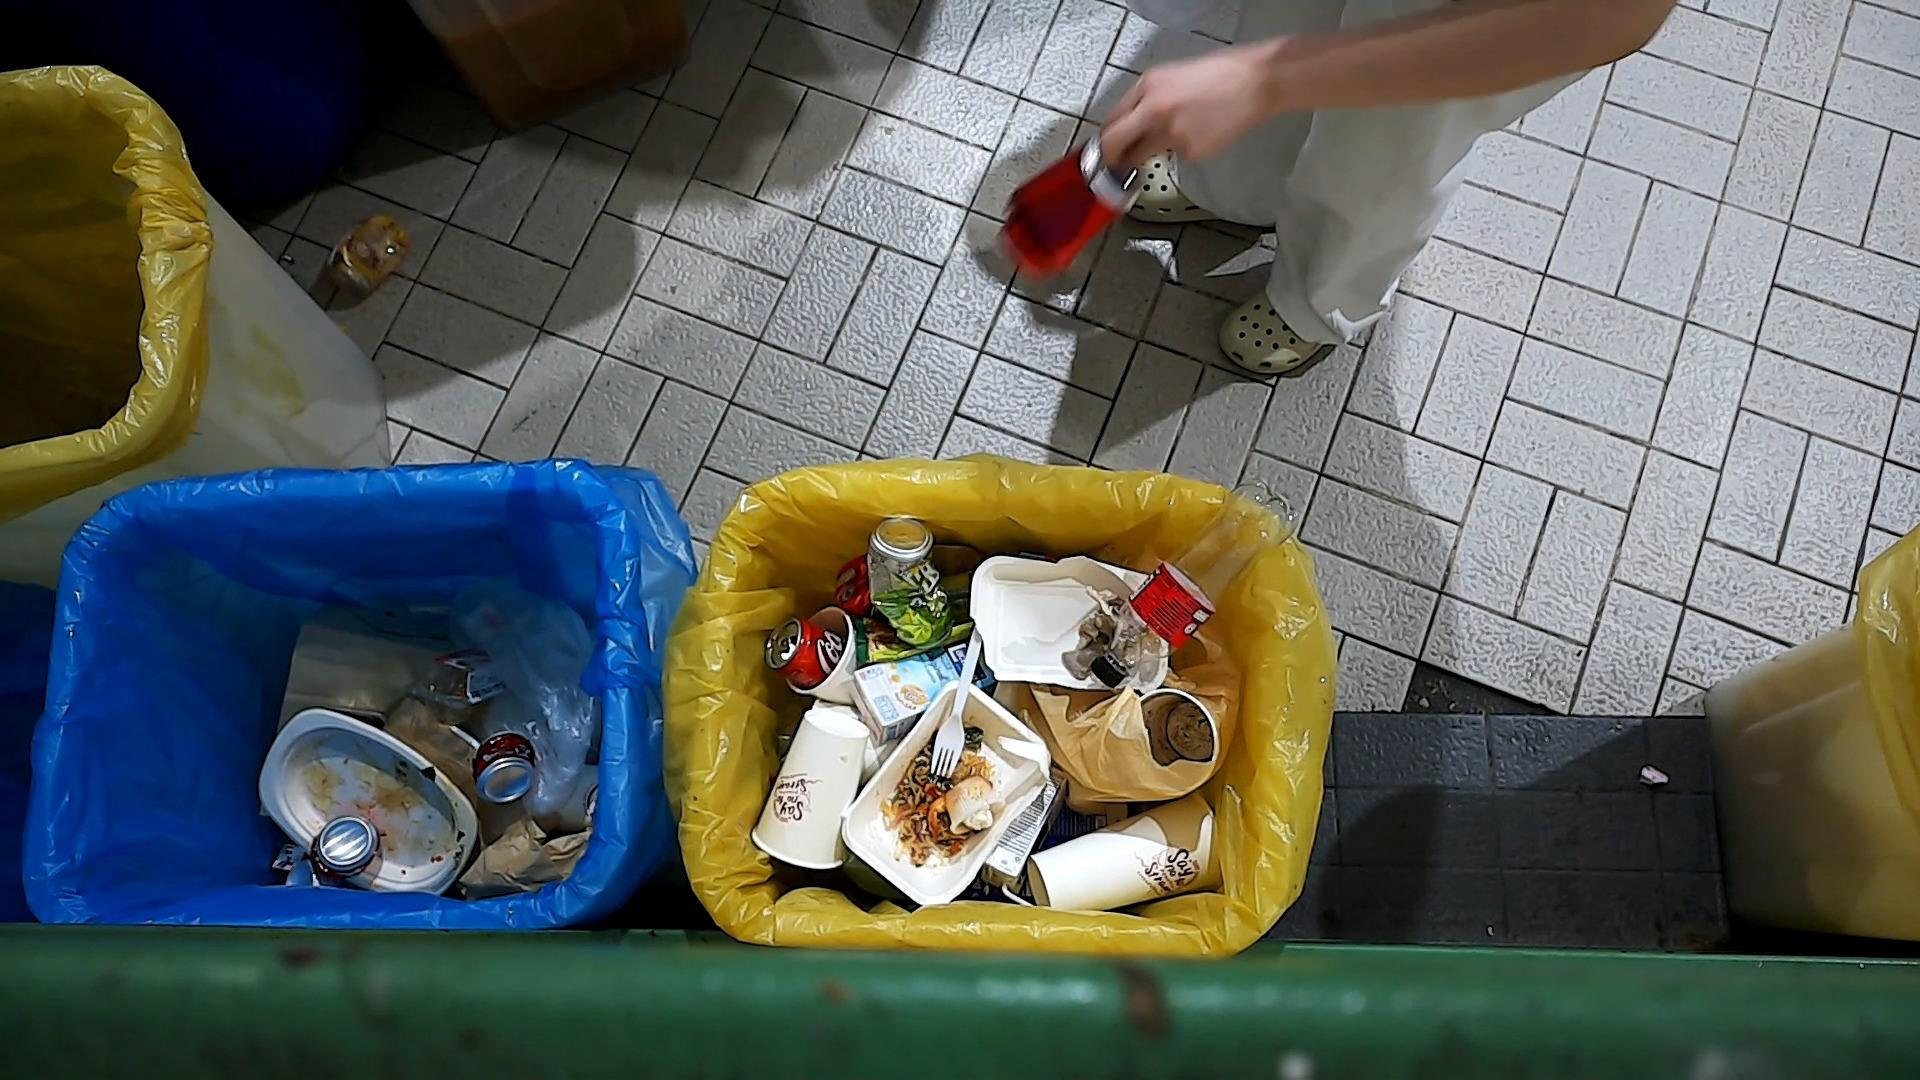can: (990, 132, 1147, 291), (861, 510, 957, 655), (761, 612, 847, 691), (465, 723, 543, 807), (307, 812, 382, 884)
dirty food container: (835, 674, 1055, 910), (965, 549, 1174, 695), (939, 773, 1009, 841)
filled plastic bag: (989, 615, 1247, 816)
food container: (239, 696, 484, 897), (400, 644, 514, 729)
milk carton: (849, 629, 1000, 748), (980, 762, 1071, 909)
paper bag: (451, 802, 597, 903)
plastic bag: (473, 589, 604, 822)
plastic bottle: (1084, 476, 1304, 690)
plastic cutlery: (927, 626, 986, 781)
zero waste cup: (1023, 787, 1226, 918), (745, 705, 874, 872)
